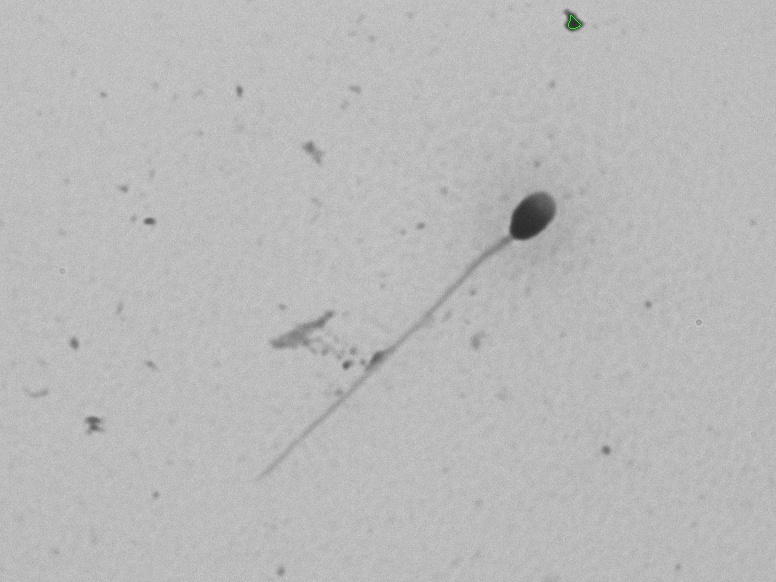Abnormal: (234, 154, 582, 502)
